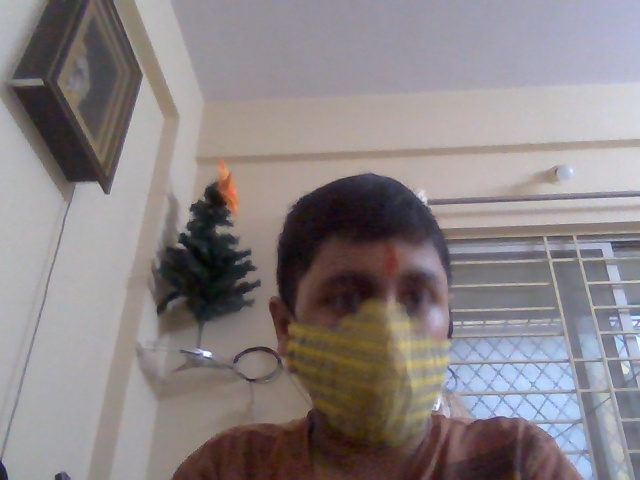Mask: (290, 299, 449, 438)
